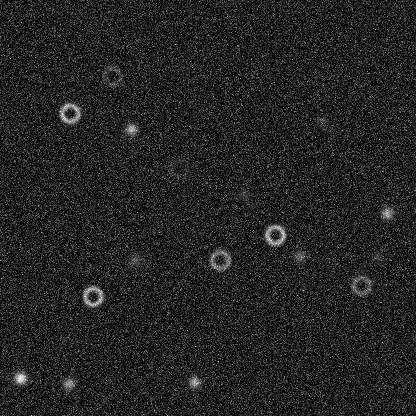Ring: (100, 64, 124, 88), (262, 222, 286, 246), (349, 273, 373, 297), (208, 247, 232, 271), (80, 284, 104, 308), (166, 155, 190, 179), (57, 101, 81, 125)
Spot: (123, 120, 139, 136), (368, 248, 384, 264), (60, 375, 76, 391), (186, 374, 202, 390), (314, 113, 330, 129), (235, 187, 251, 203), (379, 205, 395, 221), (12, 370, 28, 386), (127, 251, 143, 267), (291, 247, 307, 263)
